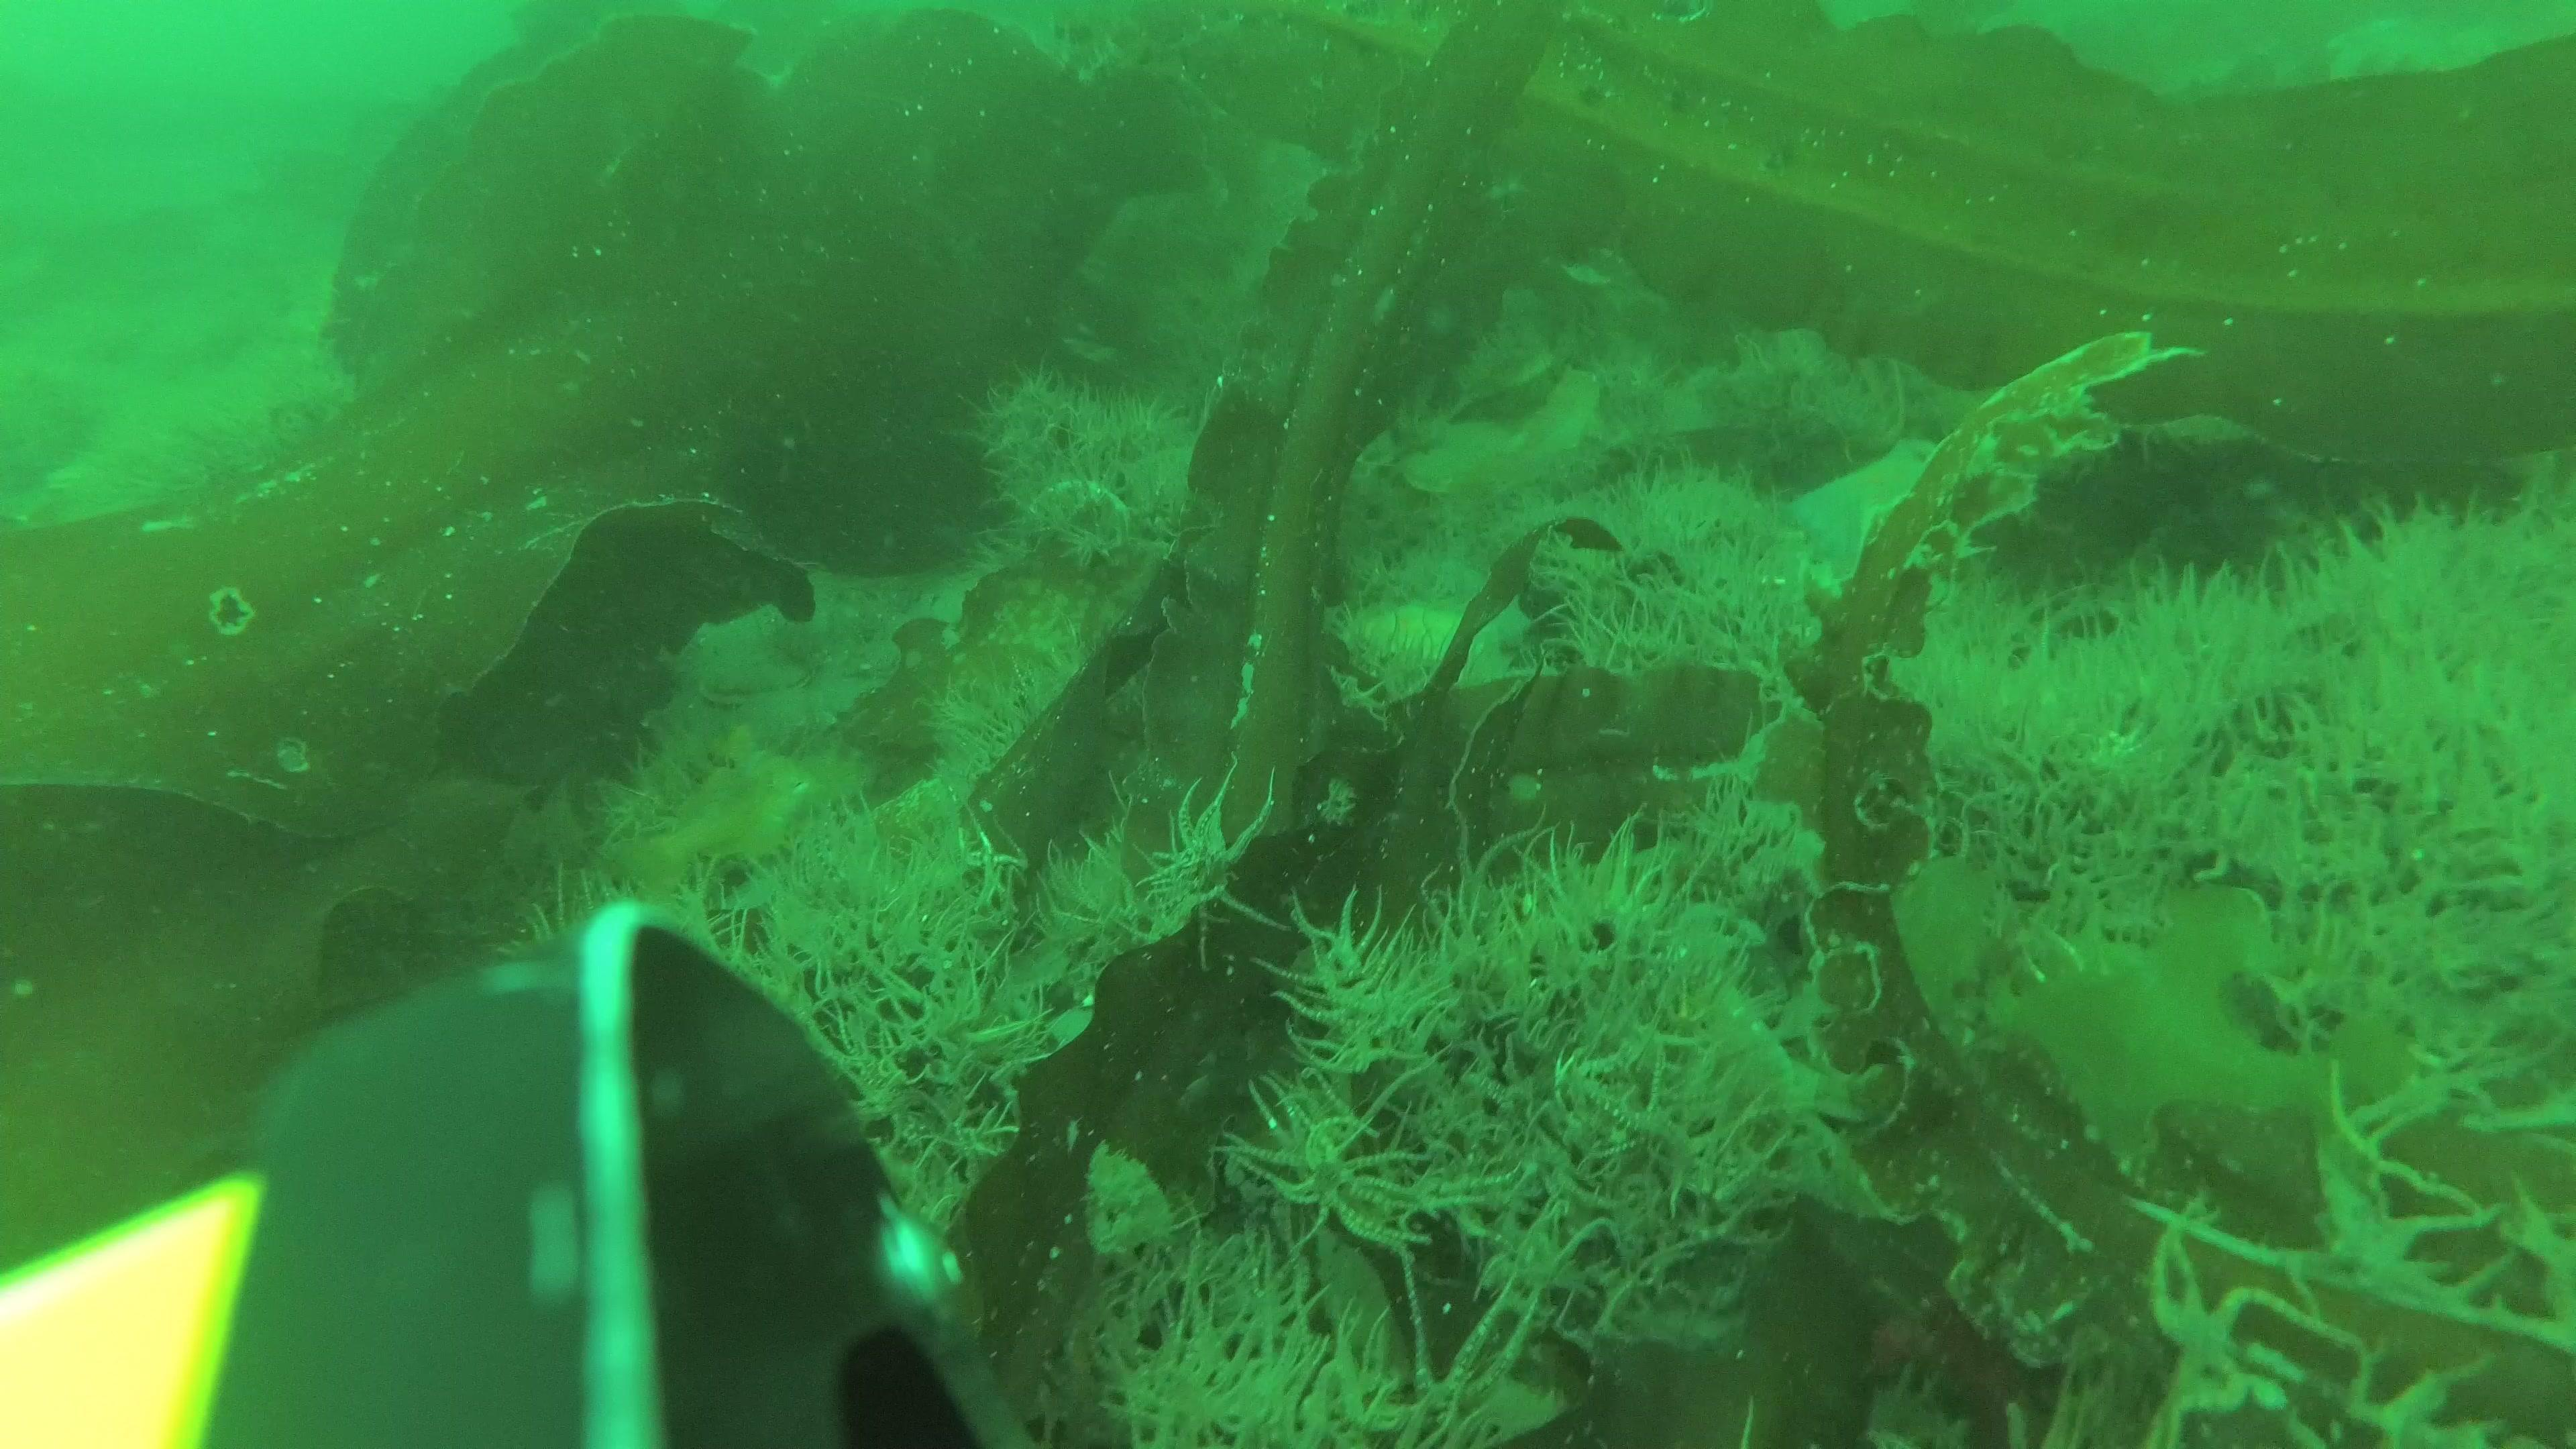starfish: (1785, 428, 1974, 579)
